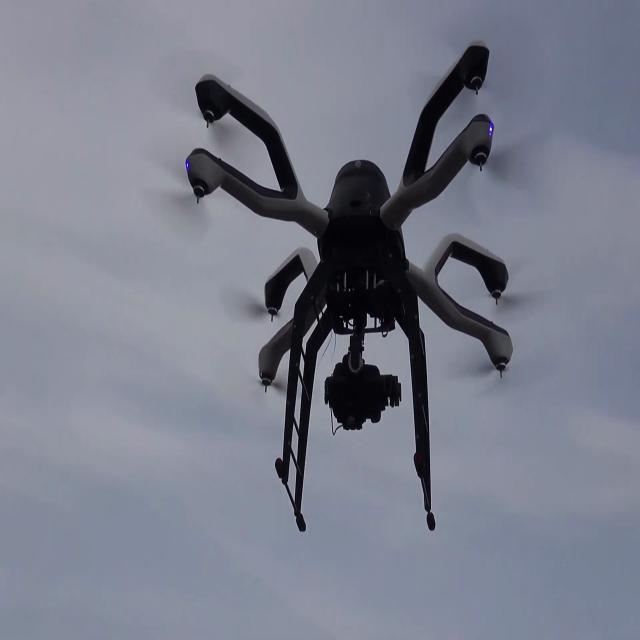drone: (162, 10, 532, 546)
